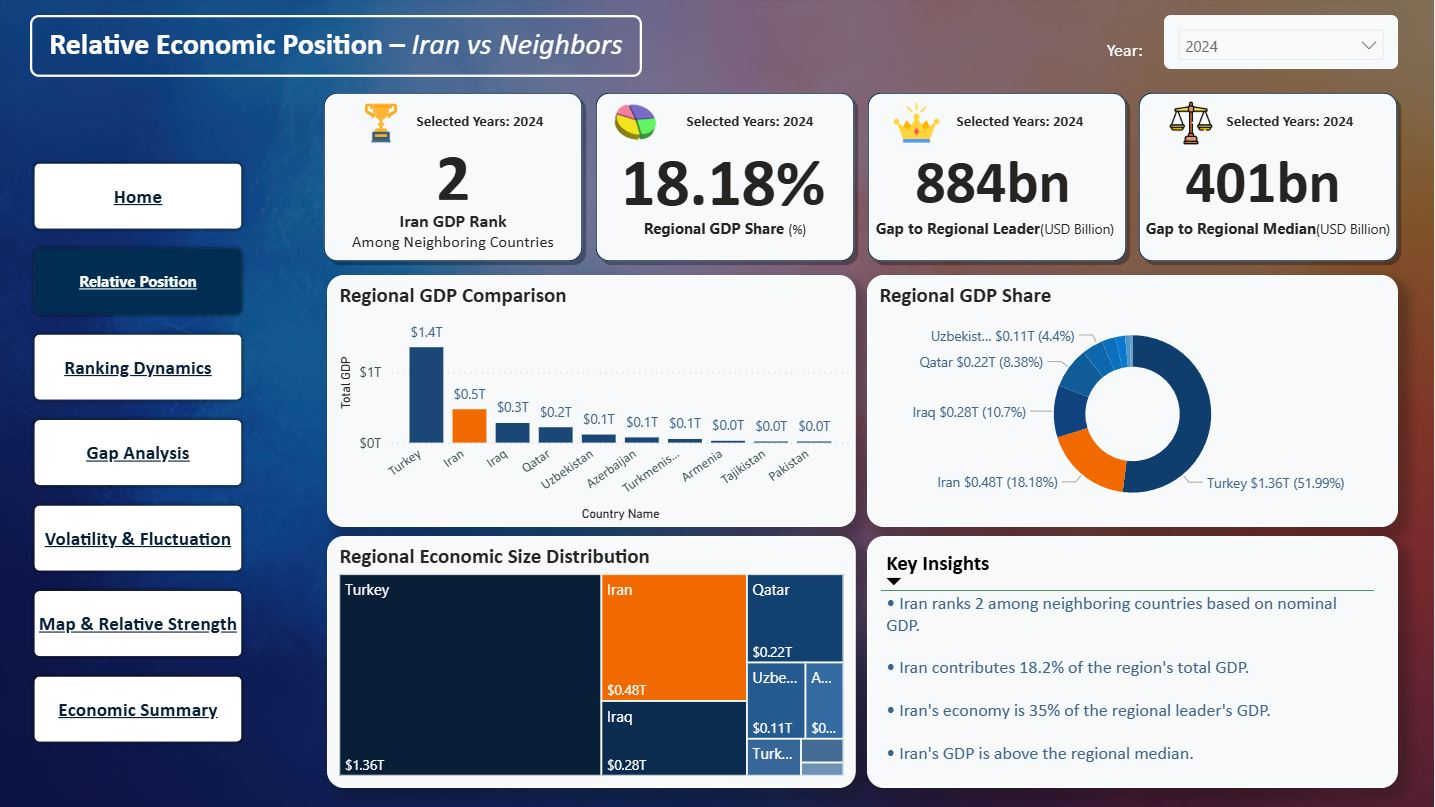

The dashboard page shown, as its layout file describes it:
{"tool":"powerbi","page":{"name":"Relative Position","canvas":[1280,720],"ordinal":1},"visuals":[{"type":"slicer","fields":{"Values":["DimDate.Year"]},"box":[1040,16,208,48],"z":0},{"type":"shape","box":[288,80,240,160],"z":0,"group":"g1"},{"type":"shape","box":[530,80,240,160],"z":0,"group":"g2"},{"type":"shape","box":[772,80,240,160],"z":0,"group":"g3"},{"type":"shape","box":[1012,80,240,160],"z":0,"group":"g4"},{"type":"textbox","box":[984,32,56,32],"z":1000},{"type":"card","fields":{"Values":["Measure.GDPRank"]},"box":[288,125.2,240,60.2],"z":1000,"group":"g1"},{"type":"card","fields":{"Values":["Measure.GDPRank"]},"box":[528,128,240,64],"z":2000},{"type":"image","box":[537.7,80,64,60.2],"z":2500,"group":"g2"},{"type":"pageNavigator","box":[32,144,192,528],"z":3000},{"type":"textbox","box":[530,192,240,48],"z":3000,"group":"g2"},{"type":"textbox","box":[32,16,544,55],"z":4000},{"type":"textbox","box":[288,184,240,56],"z":4000,"group":"g1"},{"type":"textbox","box":[770,192,240,48],"z":4000,"group":"g3"},{"type":"textbox","box":[1012,192,240,48],"z":4000,"group":"g4"},{"type":"group","id":"g1","title":"Group 1","box":[288,80,240,160],"z":5000},{"type":"group","id":"g2","title":"Group 1","box":[530,80,240,160],"z":6000},{"type":"group","id":"g3","title":"Group 1","box":[770,80,242,160],"z":7000},{"type":"group","id":"g4","title":"Group 1","box":[1012,80,240,160],"z":8000},{"type":"clusteredColumnChart","title":"Regional GDP Comparison","fields":{"Category":["DimCountry.CountryName"],"Y":["Measure.TotalGDP"]},"box":[296,247.1,470,224],"z":9000},{"type":"card","fields":{"Values":["Measure.SelectedYear"]},"box":[352,80,160,64],"z":10000},{"type":"card","fields":{"Values":["Measure.SelectedYear"]},"box":[1072,80,160,64],"z":11000},{"type":"card","fields":{"Values":["Measure.SelectedYear"]},"box":[832,80,160,64],"z":12000},{"type":"card","fields":{"Values":["Measure.SelectedYear"]},"box":[592,80,160,64],"z":13000},{"type":"card","fields":{"Values":["Measure.GDPShare%"]},"box":[528,138,240,64],"z":14000},{"type":"card","fields":{"Values":["Measure.GaptoLeader"]},"box":[768,138,240,64],"z":15000},{"type":"card","fields":{"Values":["Measure.GaptoMedian"]},"box":[1008,138,240,64],"z":16000},{"type":"donutChart","title":"Regional GDP Share","fields":{"Y":["Measure.TotalGDP"],"Category":["DimCountry.CountryName"]},"box":[776,247.1,472,224],"z":17000},{"type":"treemap","title":"Regional Economic Size Distribution","fields":{"Group":["DimCountry.CountryName"],"Values":["Measure.TotalGDP"]},"box":[296,479.2,470,224],"z":18000},{"type":"tableEx","title":"Key Insights and Executive Summary","fields":{"Values":["Measure.P1Insights"]},"box":[776,479.2,472,224],"z":19000},{"type":"image","box":[320,88,48,48],"z":20000},{"type":"image","box":[1032,88,64,48],"z":21000},{"type":"image","box":[784,80,72,64],"z":22000}]}

Visuals, with their boxes in screenshot pixels (x1, y1, x2, y2), scaled from the page's 1280x720 canvas onto the 1435x807 screenshot:
slicer - DimDate.Year: 1166 18 1399 72
shape: 323 90 592 269
shape: 594 90 863 269
shape: 865 90 1135 269
shape: 1135 90 1404 269
textbox: 1103 36 1166 72
card - Measure.GDPRank: 323 140 592 208
card - Measure.GDPRank: 592 143 861 215
image: 603 90 675 157
pageNavigator: 36 161 251 753
textbox: 594 215 863 269
textbox: 36 18 646 80
textbox: 323 206 592 269
textbox: 863 215 1132 269
textbox: 1135 215 1404 269
"Group 1" group: 323 90 592 269
"Group 1" group: 594 90 863 269
"Group 1" group: 863 90 1135 269
"Group 1" group: 1135 90 1404 269
"Regional GDP Comparison" clusteredColumnChart: 332 277 859 528
card - Measure.SelectedYear: 395 90 574 161
card - Measure.SelectedYear: 1202 90 1381 161
card - Measure.SelectedYear: 933 90 1112 161
card - Measure.SelectedYear: 664 90 843 161
card - Measure.GDPShare%: 592 155 861 226
card - Measure.GaptoLeader: 861 155 1130 226
card - Measure.GaptoMedian: 1130 155 1399 226
"Regional GDP Share" donutChart: 870 277 1399 528
"Regional Economic Size Distribution" treemap: 332 537 859 788
"Key Insights and Executive Summary" tableEx: 870 537 1399 788
image: 359 99 413 152
image: 1157 99 1229 152
image: 879 90 960 161
